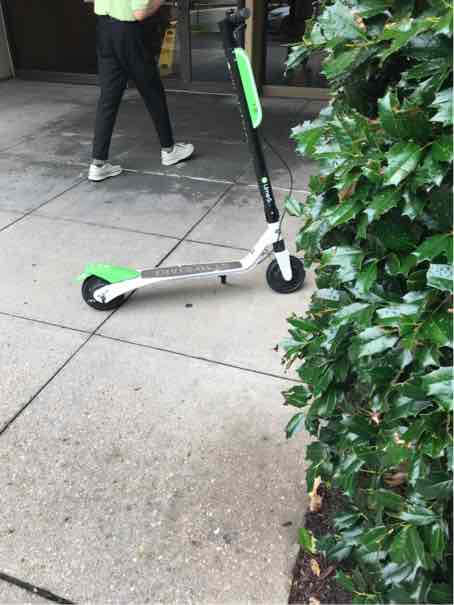scooter: (79, 3, 313, 318)
